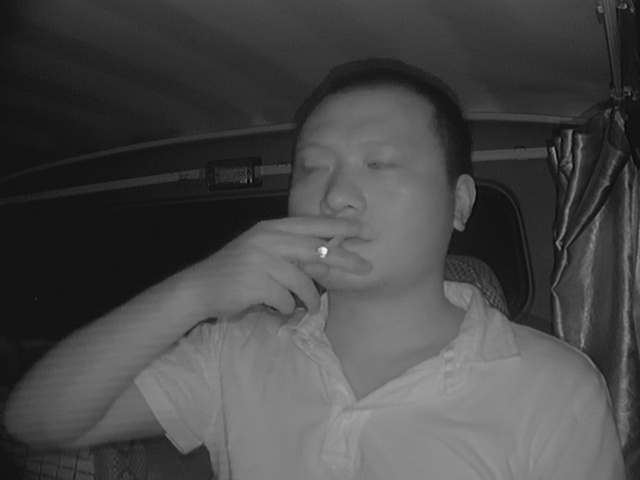hand: (235, 207, 363, 320)
